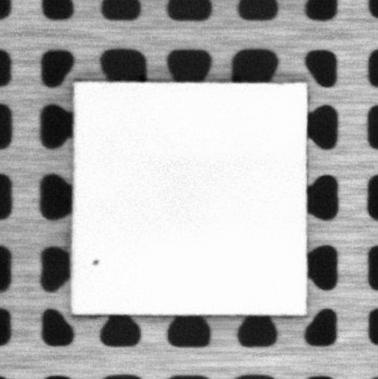DIE_INK: (90, 257, 101, 267)
